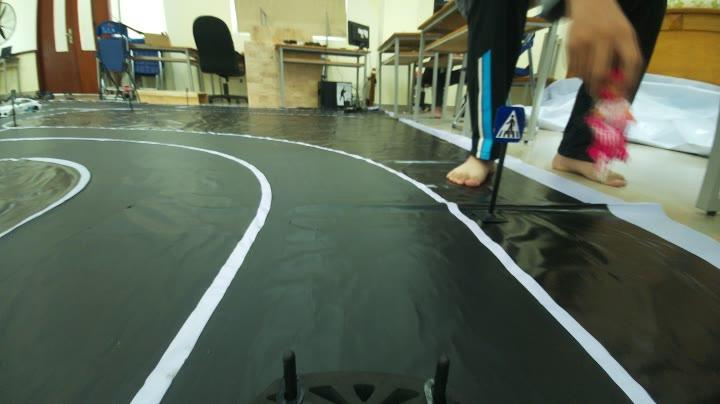crosswalk: (493, 105, 526, 142)
